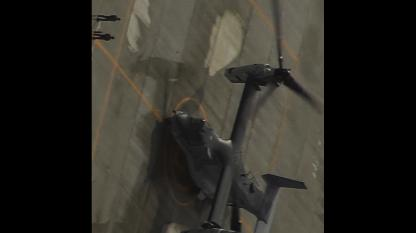Tornado: (164, 0, 324, 232)
